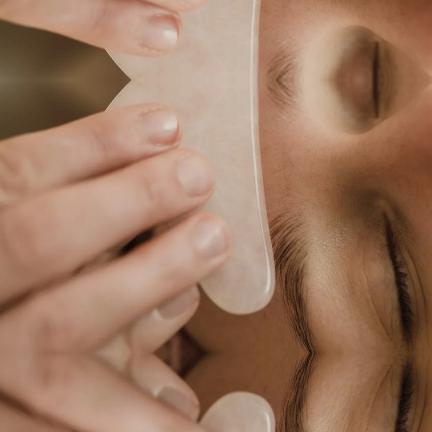Nail: (188, 213, 229, 260), (175, 152, 216, 198), (137, 104, 180, 146), (137, 12, 180, 54), (159, 285, 198, 319), (159, 385, 198, 419), (180, 0, 204, 6)
